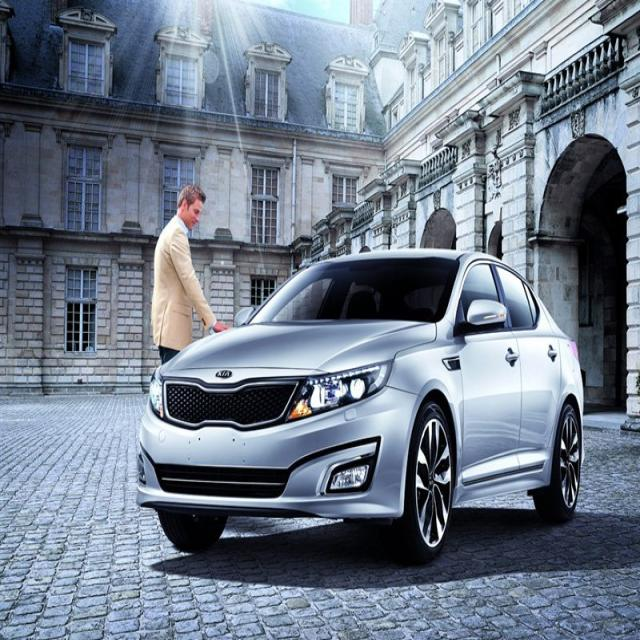back_left_side_light: (570, 338, 580, 366)
door: (495, 268, 556, 480)
front_bumper: (130, 382, 427, 519)
front_glass: (248, 257, 462, 325)
front_left_side_door: (456, 255, 523, 493)
front_left_side_light: (282, 356, 394, 426)
front_left_side_mirror: (450, 298, 508, 339)
front_right_side_light: (146, 370, 168, 422)
front_right_side_mirror: (232, 305, 254, 332)
wheel: (386, 402, 456, 566), (532, 404, 581, 520)
